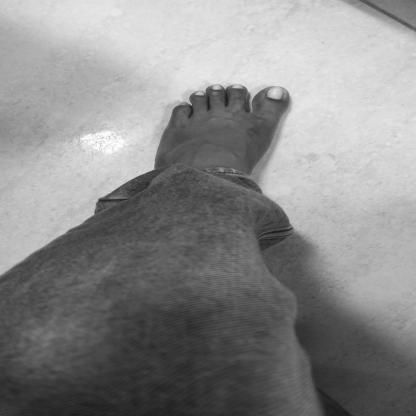ankle: (205, 174, 211, 178)
heel: (251, 187, 256, 190)
left_foot: (149, 85, 290, 214)
pinky: (181, 105, 185, 108)
toe: (278, 91, 282, 95)
